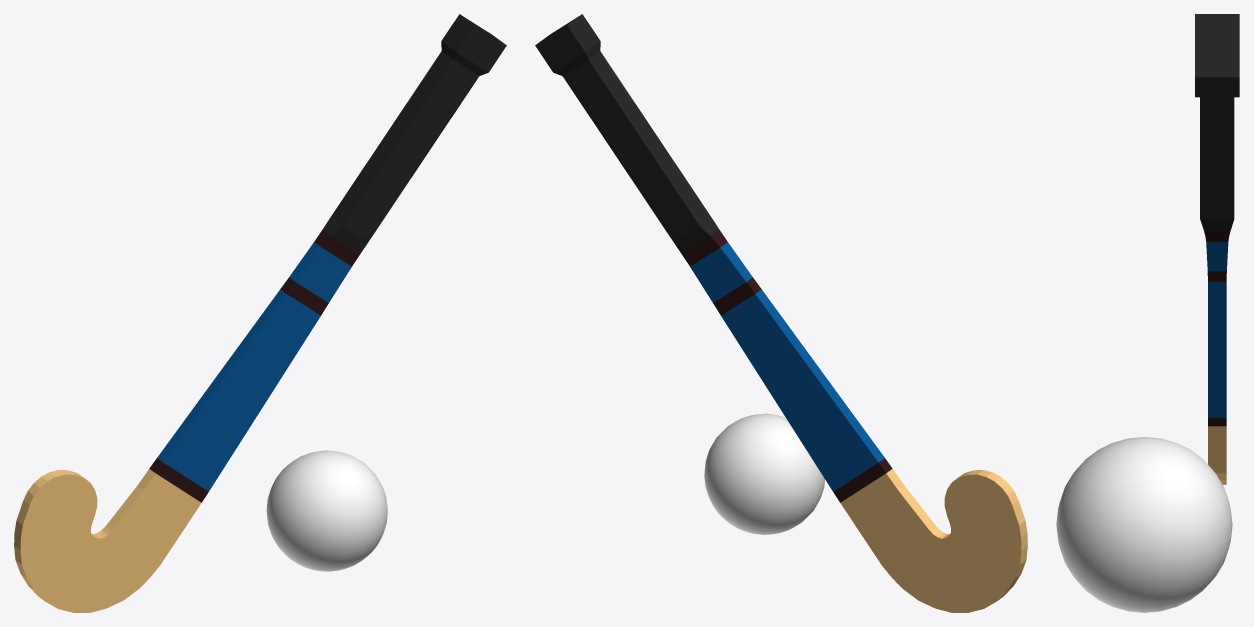
Rendered from field_hockey.glb.
3 views of the same model, side by side, from view 1: azimuth 30°, elevation 25°; view 2: azimuth 150°, elevation 25°; view 3: azimuth 270°, elevation 25° (orthographic). The views are drawn at different scales.
Visible parts, largest first — view 1: Plane.305; view 2: Plane.305; view 3: Plane.305.
Boxes of the visible parts, left/top/right/bottom form: Plane.305: left=14, top=14, right=506, bottom=612; Plane.305: left=535, top=14, right=1027, bottom=612; Plane.305: left=1056, top=14, right=1239, bottom=612.
Bounding box in the file's own units: 2.28 × 2.25 × 0.5177.
Materials: 1 (1 with a texture image).
